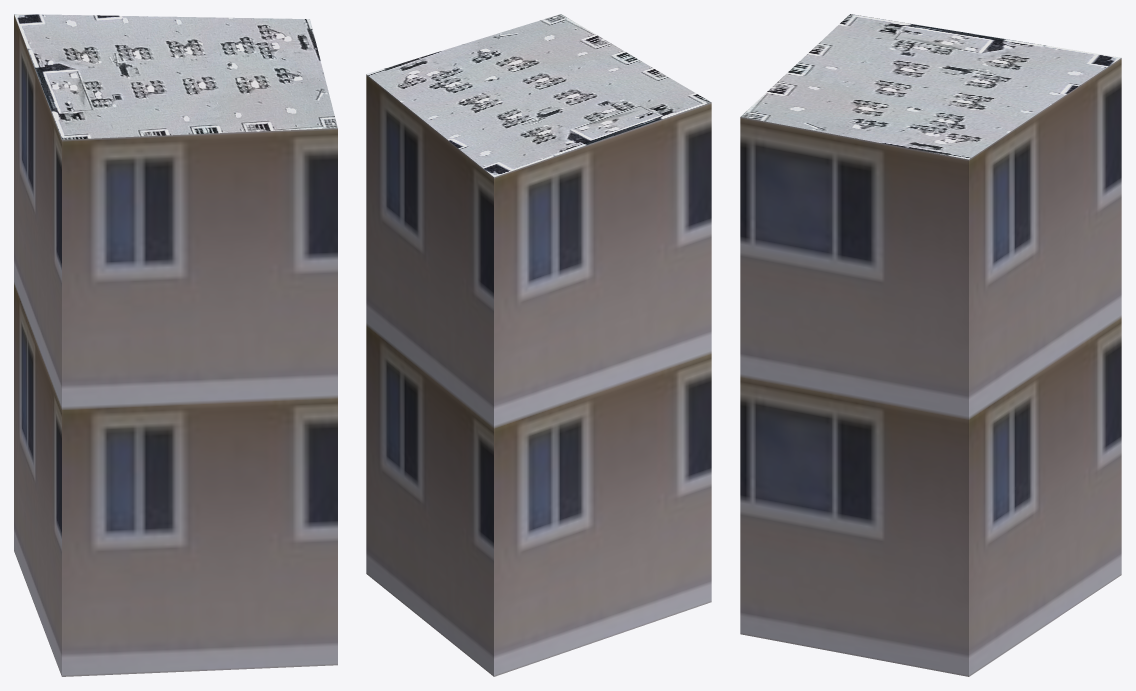
Rendered from ResTex__5018.fbx.
3 renders of one model, left to right at view 1: azimuth 30°, elevation 25°; view 2: azimuth 150°, elevation 25°; view 3: azimuth 270°, elevation 25°, orthographic. The views are drawn at different scales.
Visible parts, largest first — view 1: CityEngineMaterial_21_m, CityEngineMaterial_4_m; view 2: CityEngineMaterial_21_m, CityEngineMaterial_4_m; view 3: CityEngineMaterial_21_m, CityEngineMaterial_4_m.
Part boxes in pixels (bbox=[...]): CityEngineMaterial_21_m: bbox=[14, 14, 337, 676]; CityEngineMaterial_4_m: bbox=[14, 14, 337, 139]; CityEngineMaterial_21_m: bbox=[366, 74, 711, 676]; CityEngineMaterial_4_m: bbox=[366, 14, 711, 177]; CityEngineMaterial_21_m: bbox=[740, 58, 1121, 676]; CityEngineMaterial_4_m: bbox=[740, 14, 1121, 159].
Bounding box in the file's own units: 3.62 × 6 × 4.01.
Materials: 2 (2 with a texture image).
